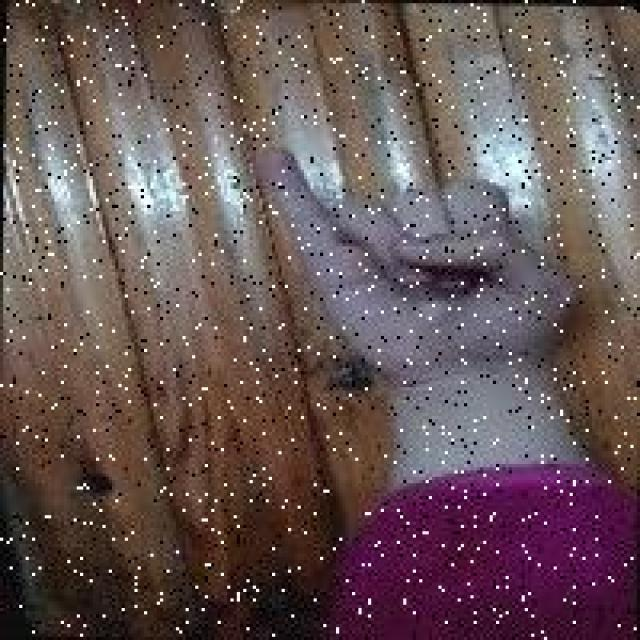I: (253, 140, 582, 366)
